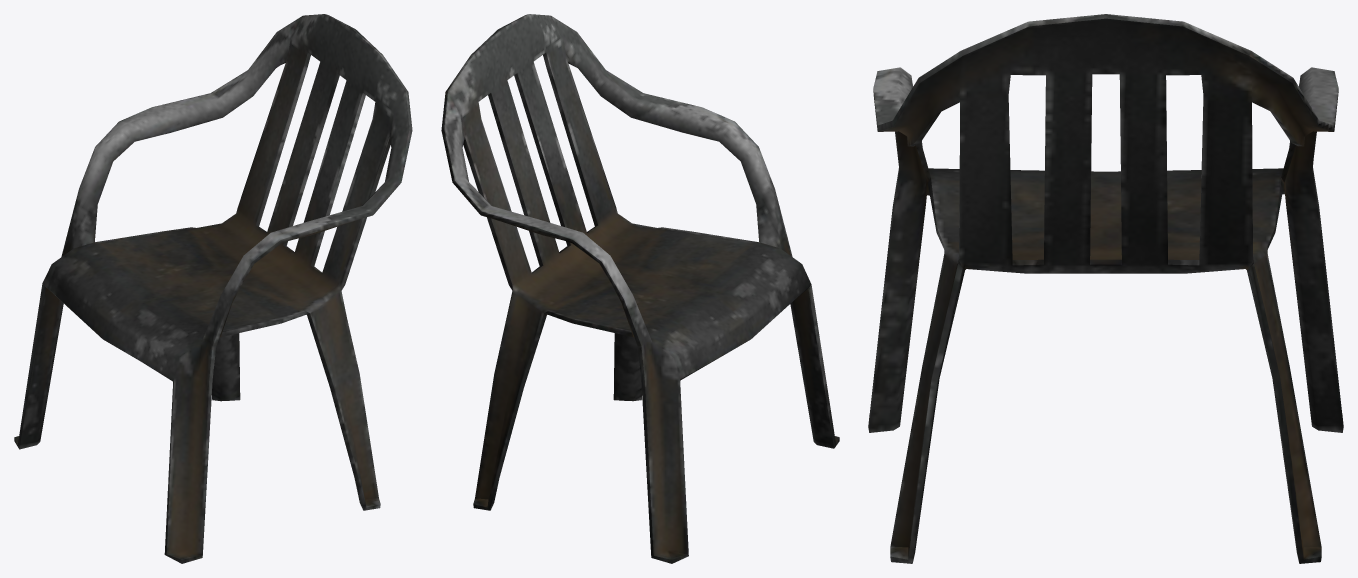
Rendered from PlasticChair.FBX.
The picture shows the model from 3 angles, left to right: view 1: azimuth 30°, elevation 25°; view 2: azimuth 150°, elevation 25°; view 3: azimuth 270°, elevation 25°; orthographic projection. The views are drawn at different scales.
Parts seen in each view (by area): view 1: PlasticChair; view 2: PlasticChair; view 3: PlasticChair.
Boxes of the visible parts, bbox=[...] form: PlasticChair: bbox=[14, 14, 412, 563]; PlasticChair: bbox=[441, 14, 839, 563]; PlasticChair: bbox=[868, 14, 1343, 563].
Bounding box in the file's own units: 66.75 × 98.99 × 73.36.
1 material, 1 textured.
